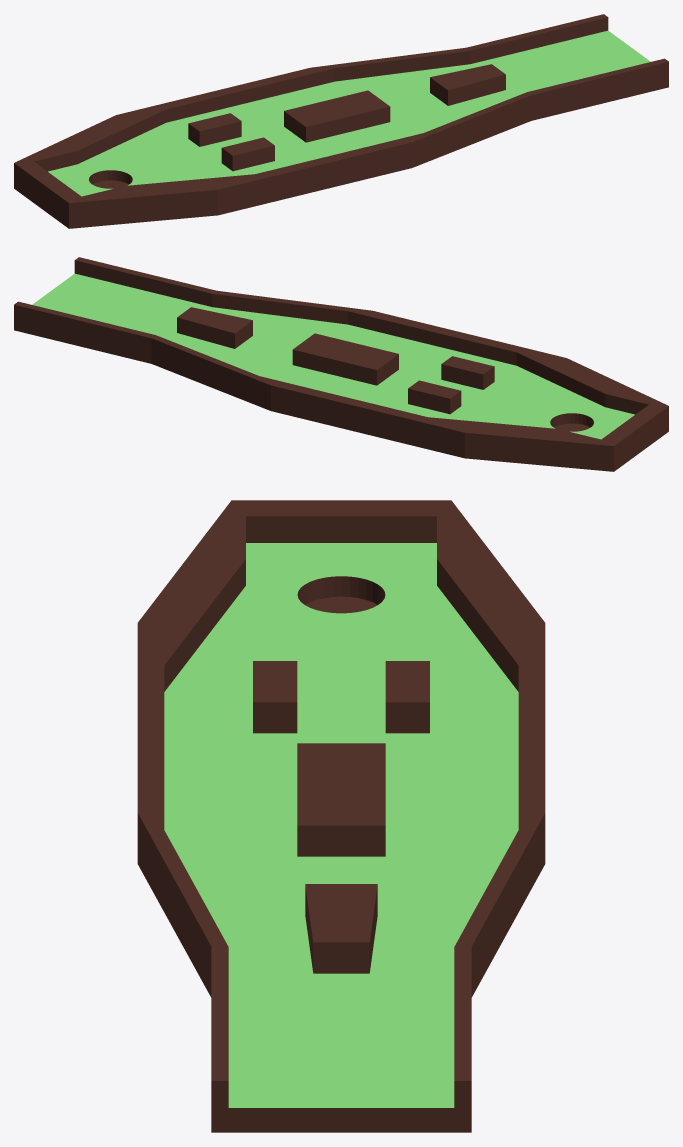
The model's file is Golf Pit 3.fbx.
3 views of the same model, one above another, from view 1: azimuth 30°, elevation 25°; view 2: azimuth 150°, elevation 25°; view 3: azimuth 270°, elevation 25° (orthographic). The views are drawn at different scales.
Visible parts, largest first — view 1: Cube.001; view 2: Cube.001; view 3: Cube.001.
Boxes of the visible parts, left/top/right/bottom form: Cube.001: left=14, top=14, right=668, bottom=228; Cube.001: left=14, top=257, right=668, bottom=471; Cube.001: left=137, top=500, right=545, bottom=1132.
Bounding box in the file's own units: 729 × 32.64 × 216.
